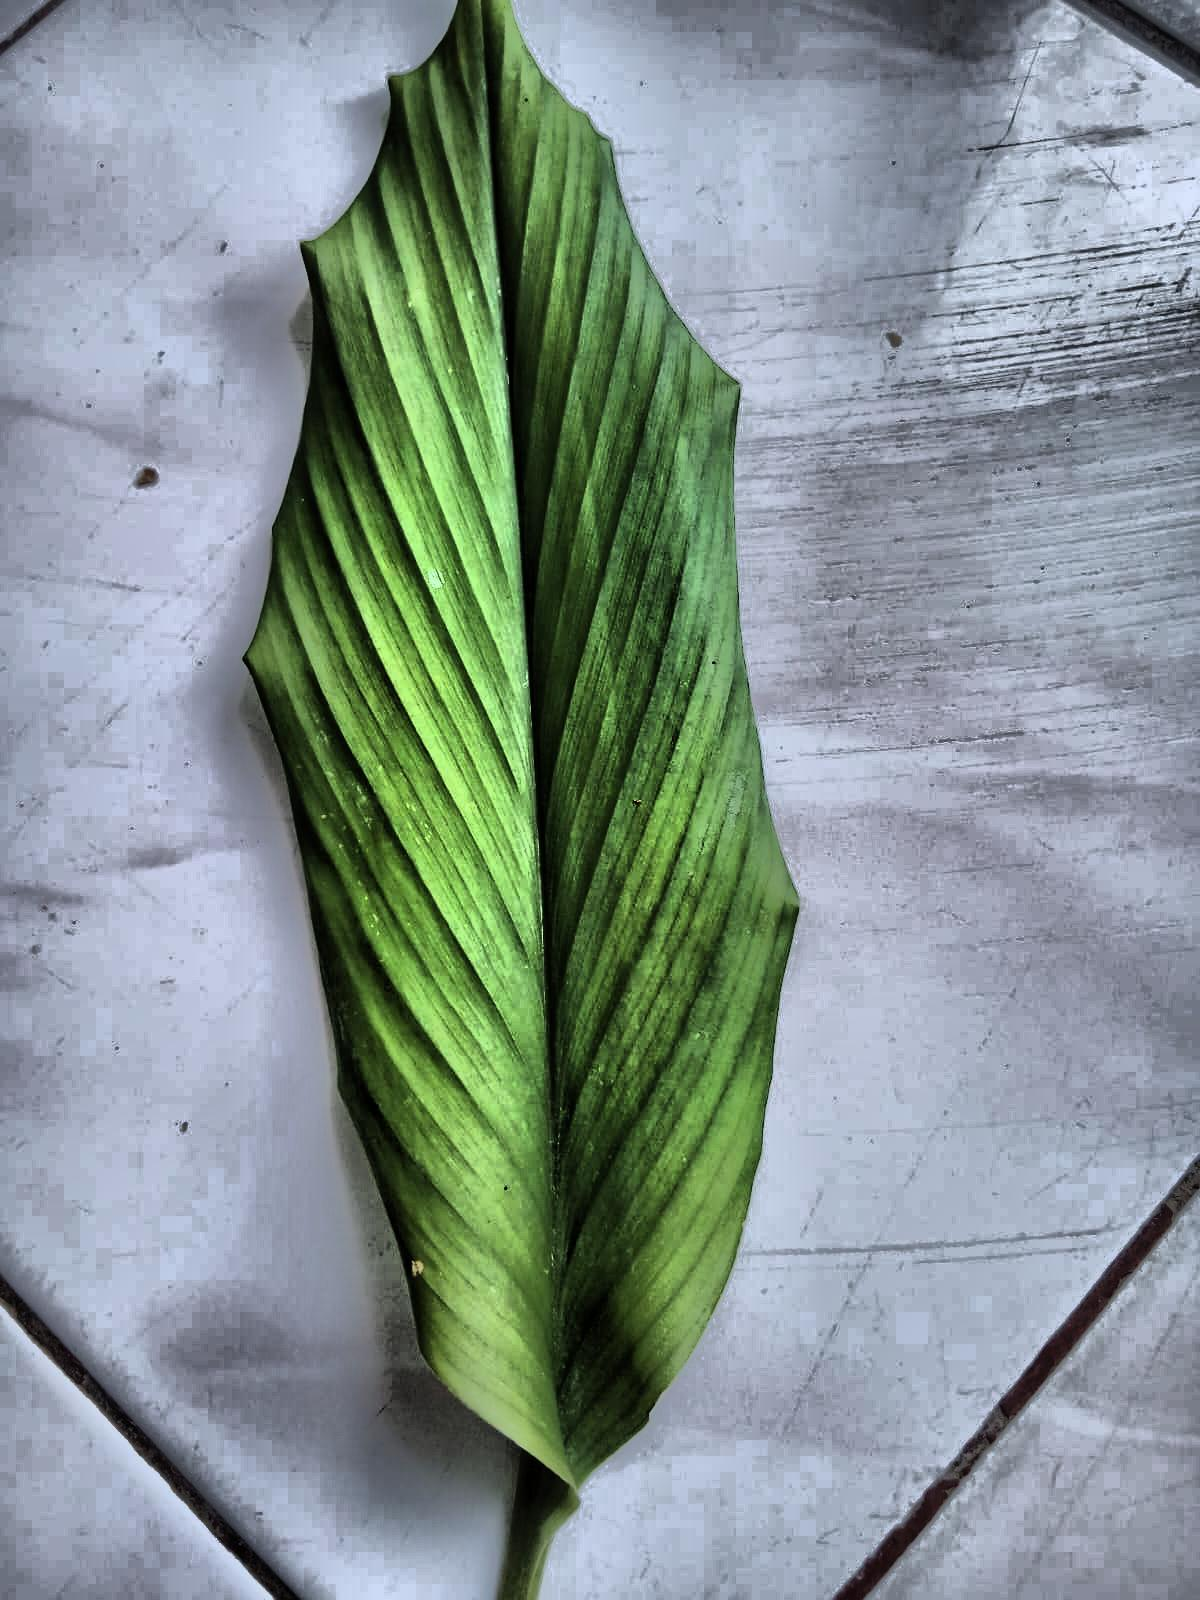daun kunyit: (245, 0, 797, 1599)
